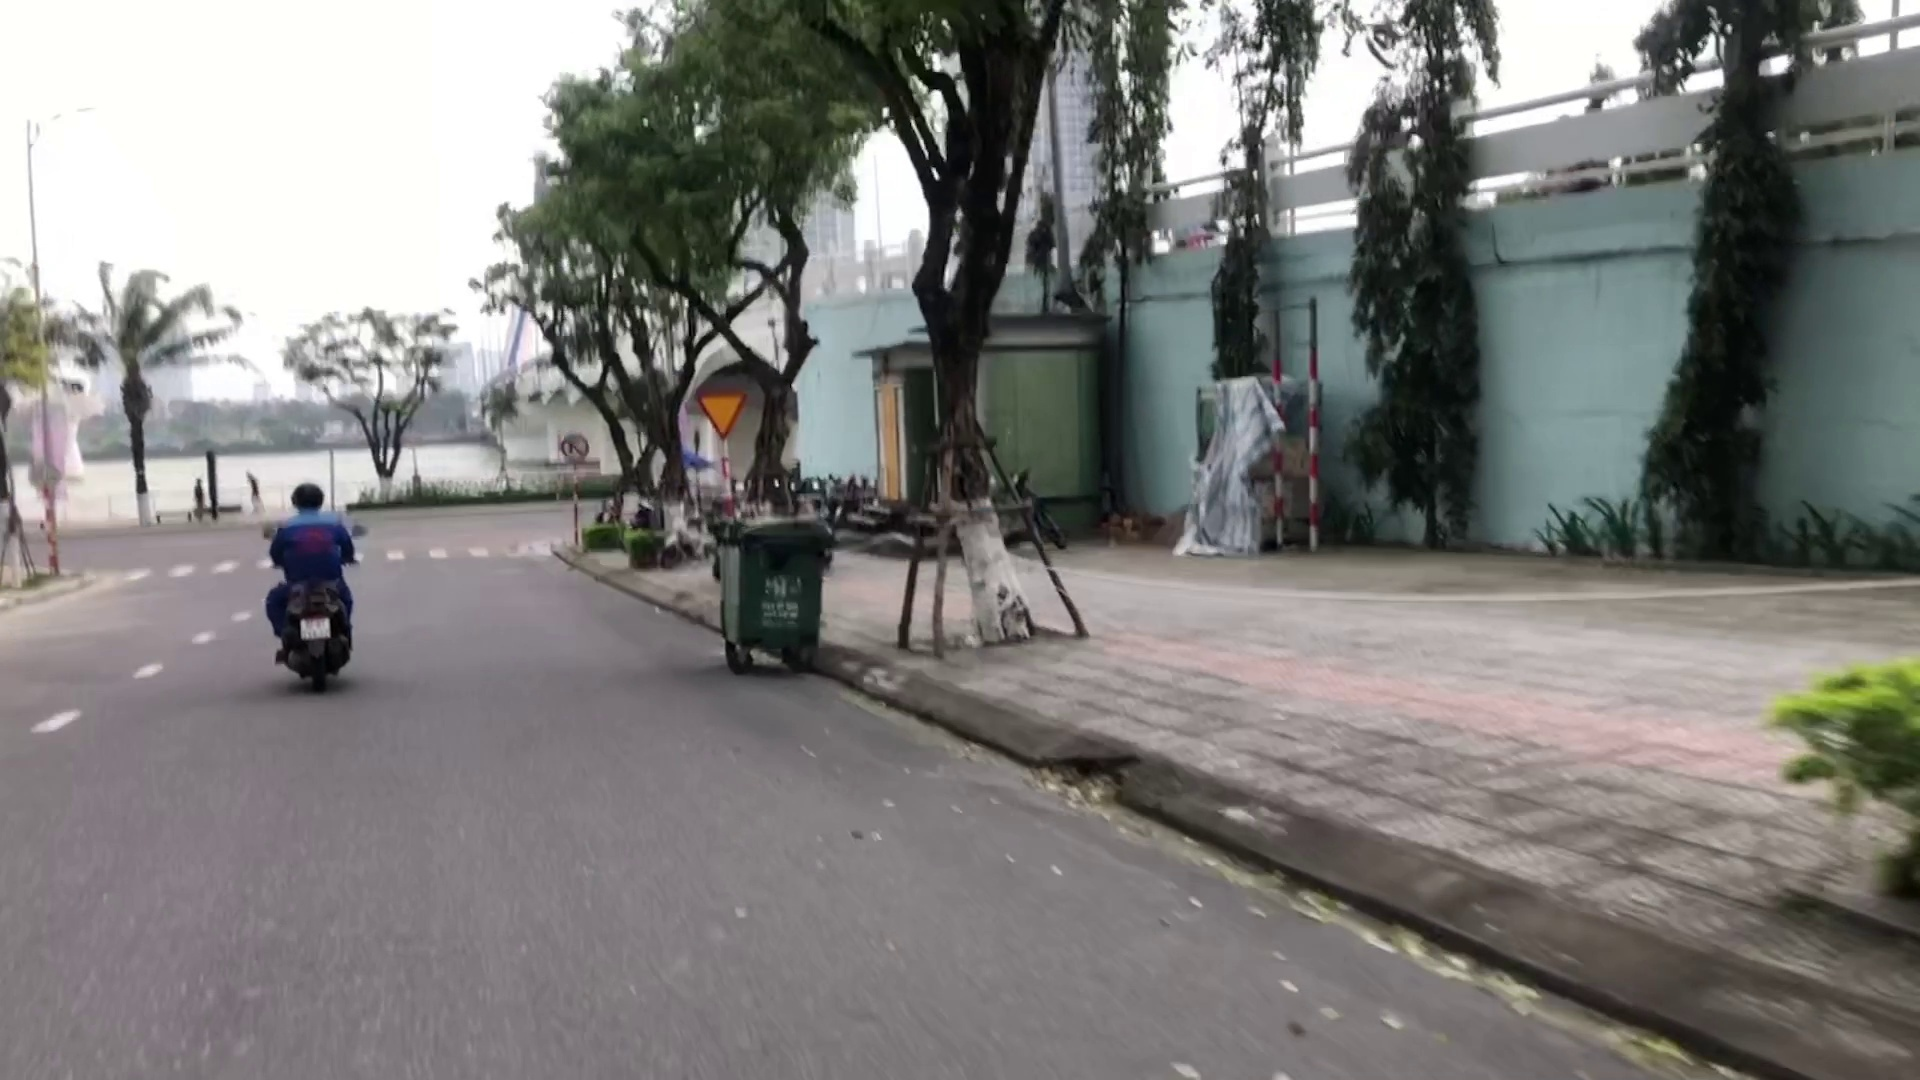Bien khac: (696, 392, 746, 436), (559, 427, 593, 462)
